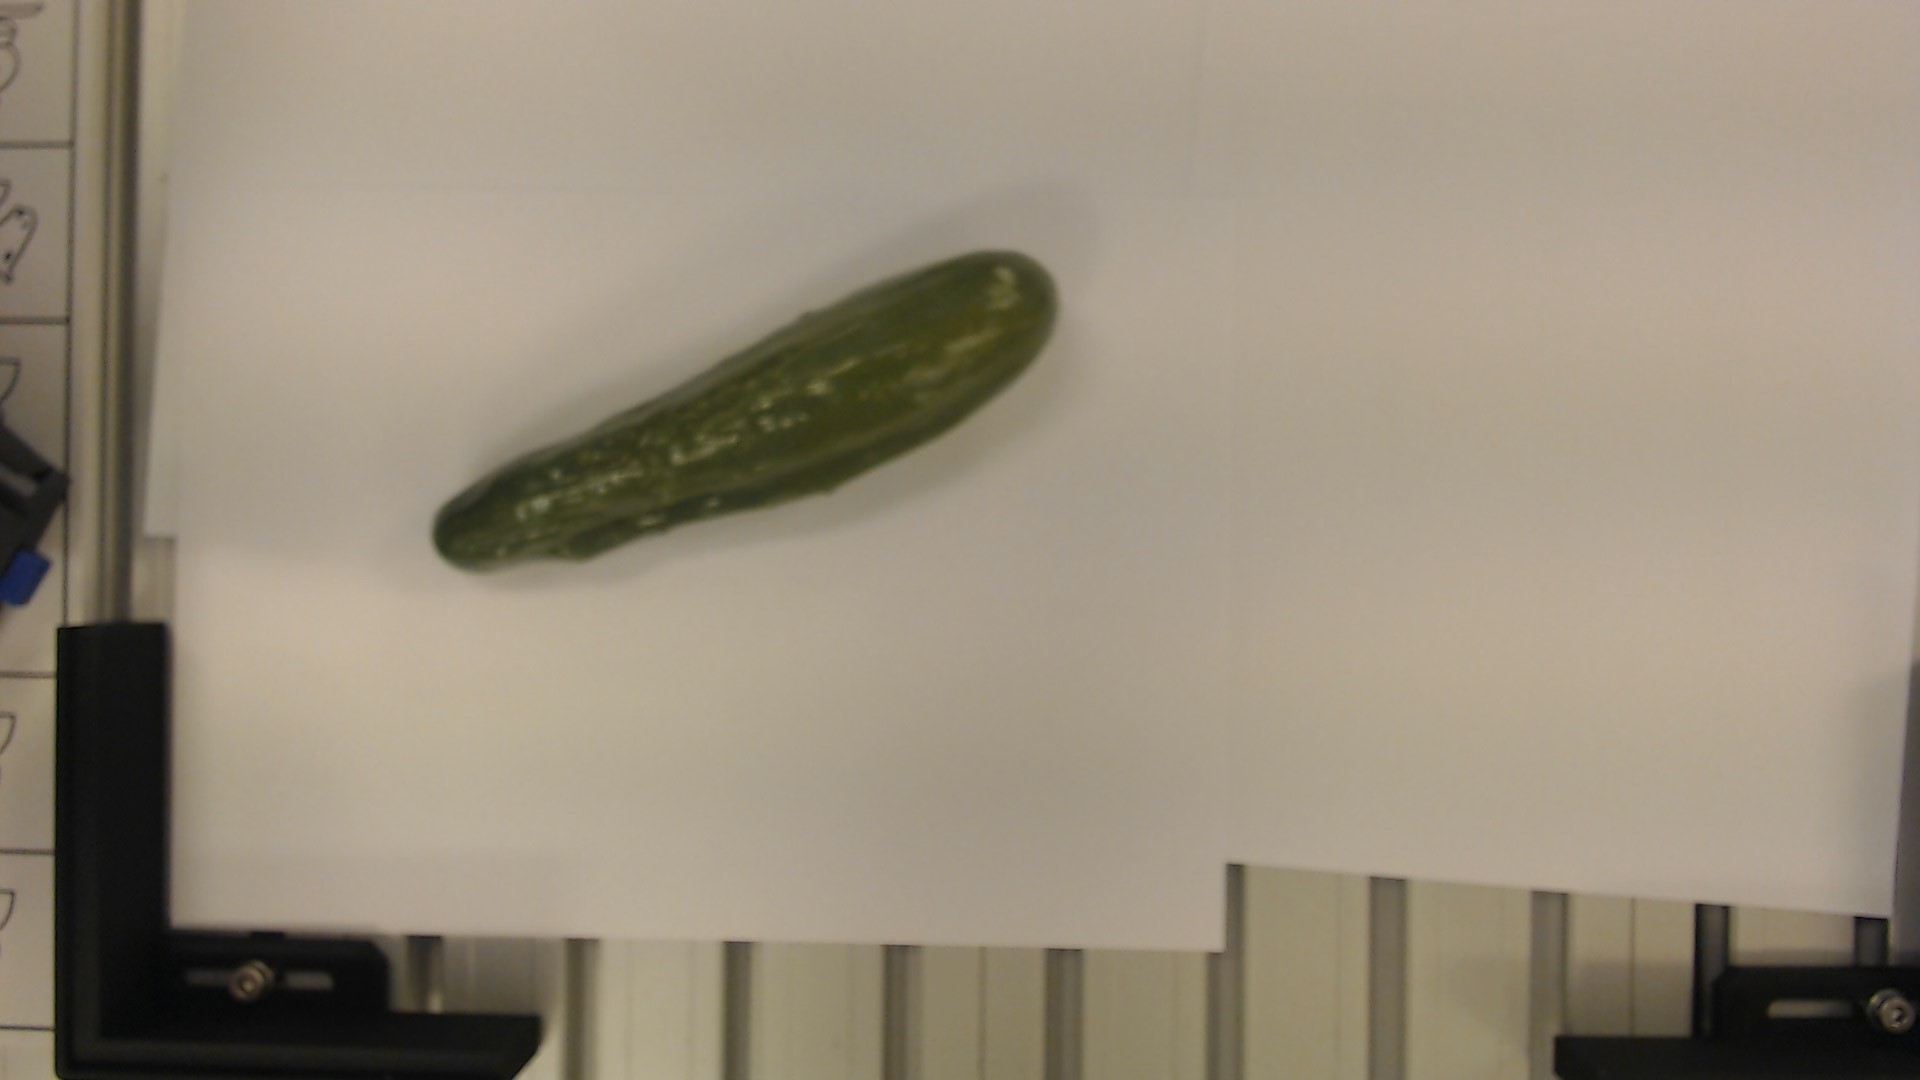Cucumber: (429, 241, 1072, 582)
